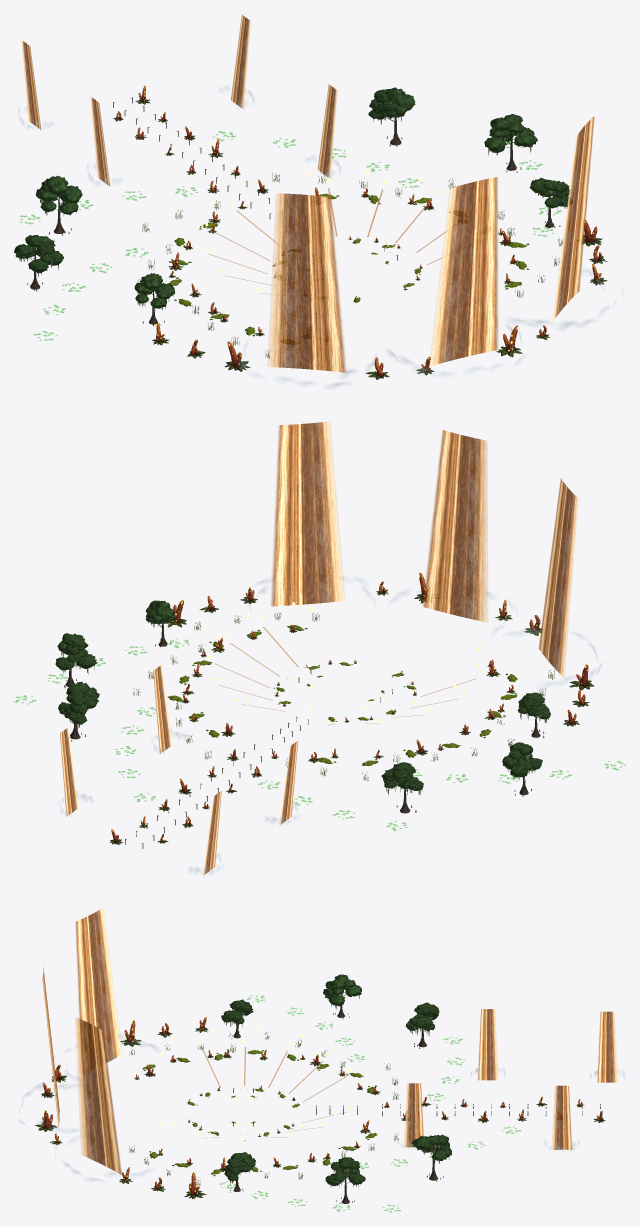
The model's file is mwm_bake_deco.glb.
3 views of the same model, one above another, from view 1: azimuth 30°, elevation 25°; view 2: azimuth 150°, elevation 25°; view 3: azimuth 270°, elevation 25° (orthographic). The views are drawn at different scales.
Parts seen in each view (by area): view 1: lantern_post.glb; view 2: lantern_post.glb; view 3: lantern_post.glb.
Part boxes in pixels (x1=…): lantern_post.glb: x1=14, y1=14, x2=623, y2=388; lantern_post.glb: x1=14, y1=421, x2=625, y2=875; lantern_post.glb: x1=18, y1=908, x2=624, y2=1212.
Bounding box in the file's own units: 452 × 141 × 538.
Materials: 26 (17 with a texture image).
